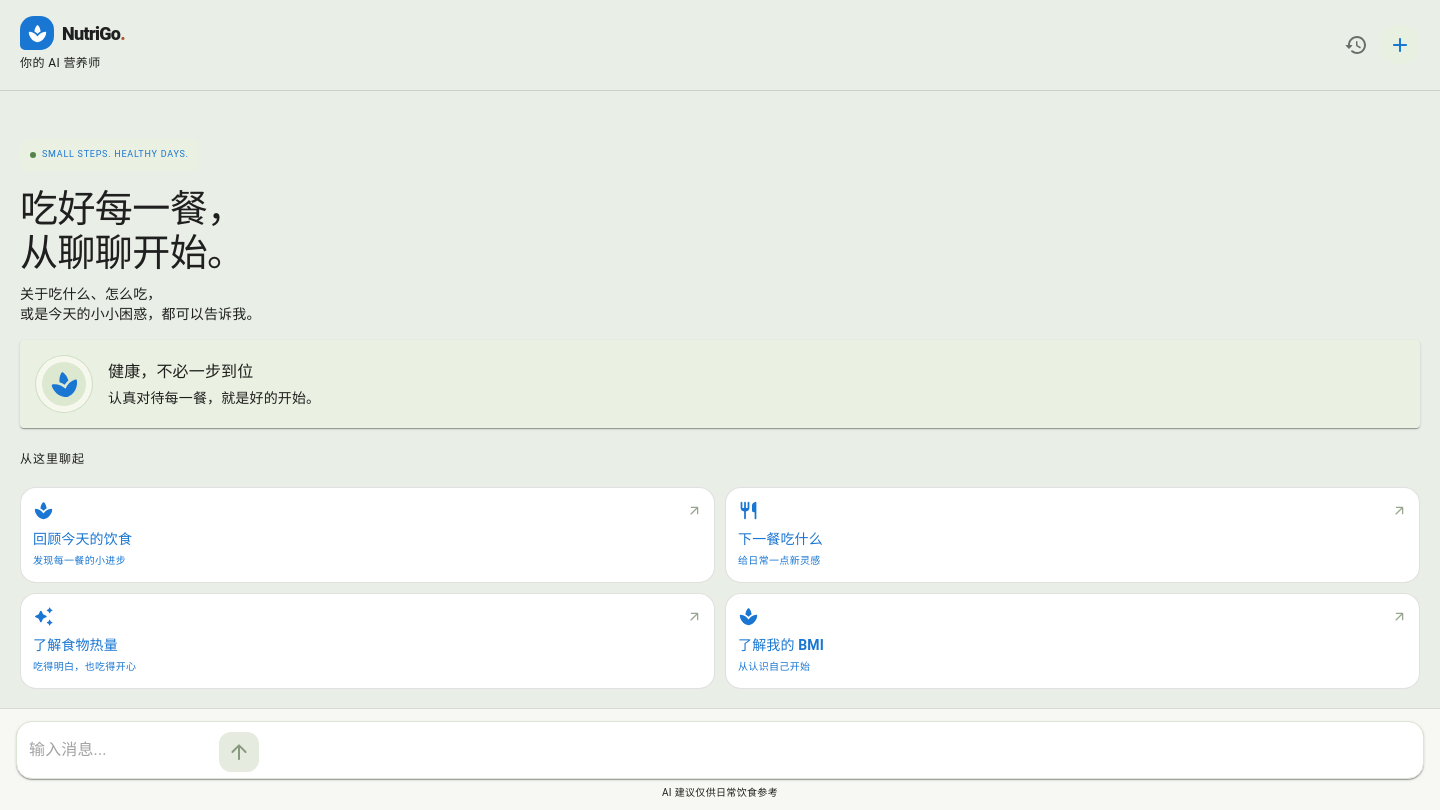
Test case: Chat 页面 › 流结束后停止加载状态并显示重新生成按钮
Type "你好" into the text box with placeholder "输入消息...".
click(120, 750); type("你好")  # box [29,728,211,772]
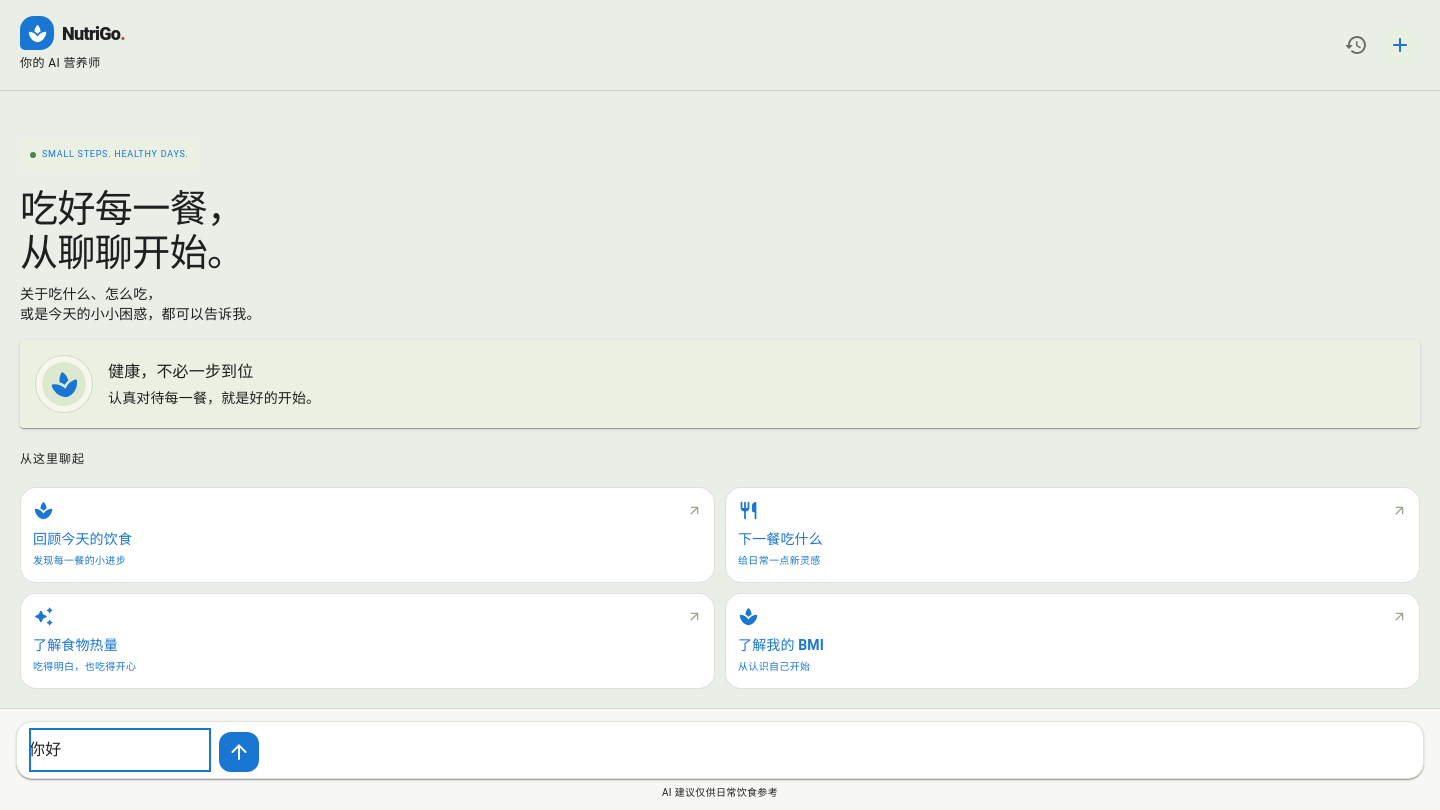
Click the button named "发送".
click(239, 752)  # box [219,732,259,772]
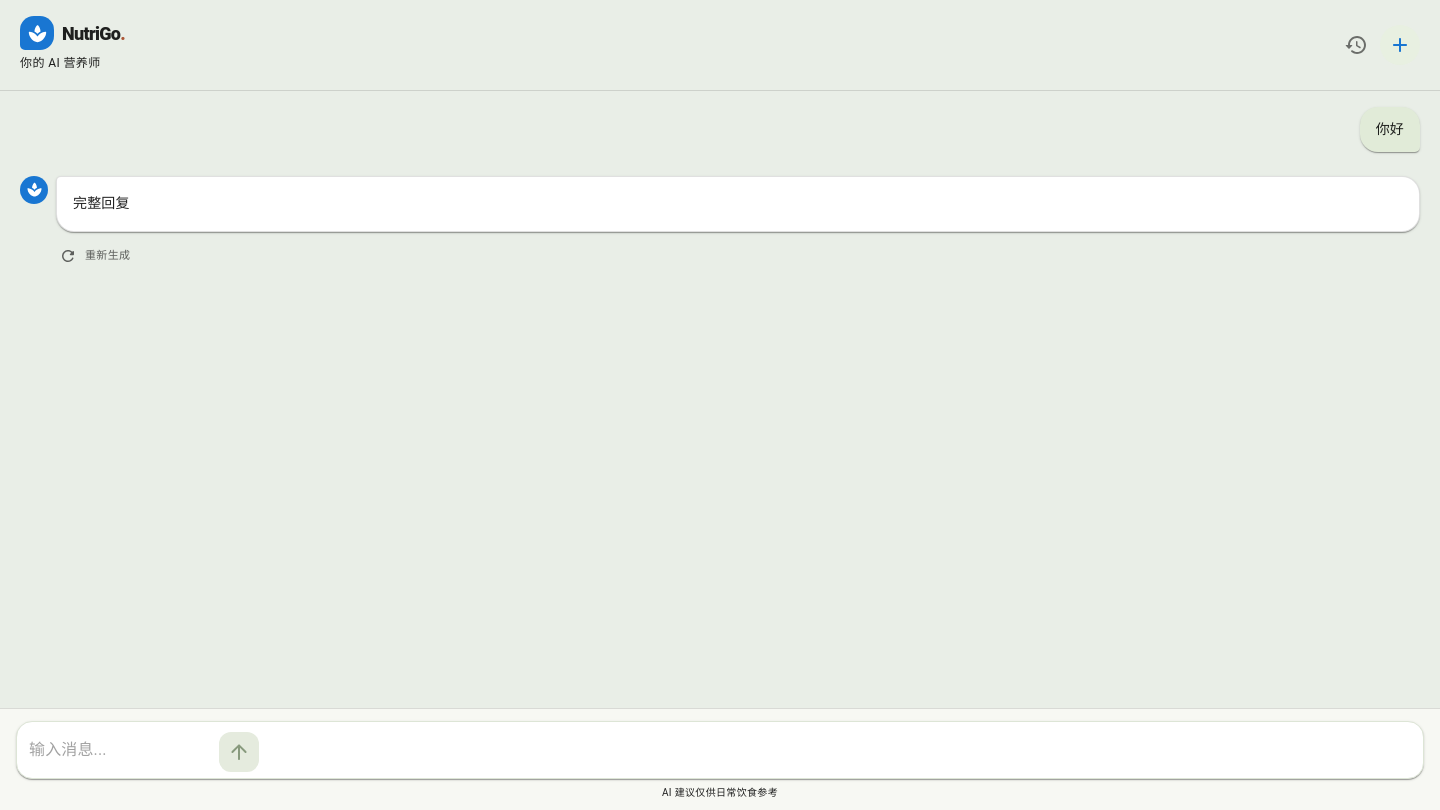
Expected: the button titled "重新生成" is shown, [56,236,135,276]
